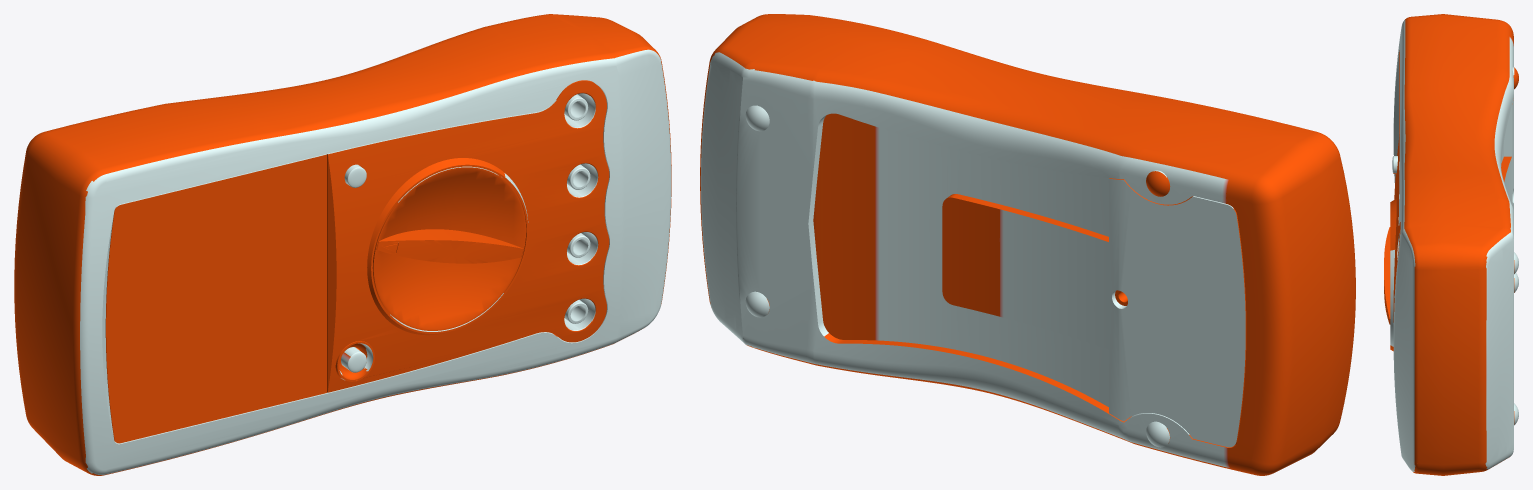
File: multimeter.obj
The picture shows the model from 3 angles, left to right: view 1: azimuth 30°, elevation 25°; view 2: azimuth 150°, elevation 25°; view 3: azimuth 270°, elevation 25°; orthographic projection. The views are drawn at different scales.
Parts seen in each view (by area): view 1: textured; view 2: textured; view 3: textured.
Boxes of the visible parts, bbox=[...] form: textured: bbox=[14, 14, 671, 475]; textured: bbox=[700, 14, 1355, 475]; textured: bbox=[1384, 14, 1518, 475].
Size of the model in its own units: 0.1795 by 0.0875 by 0.0421.
